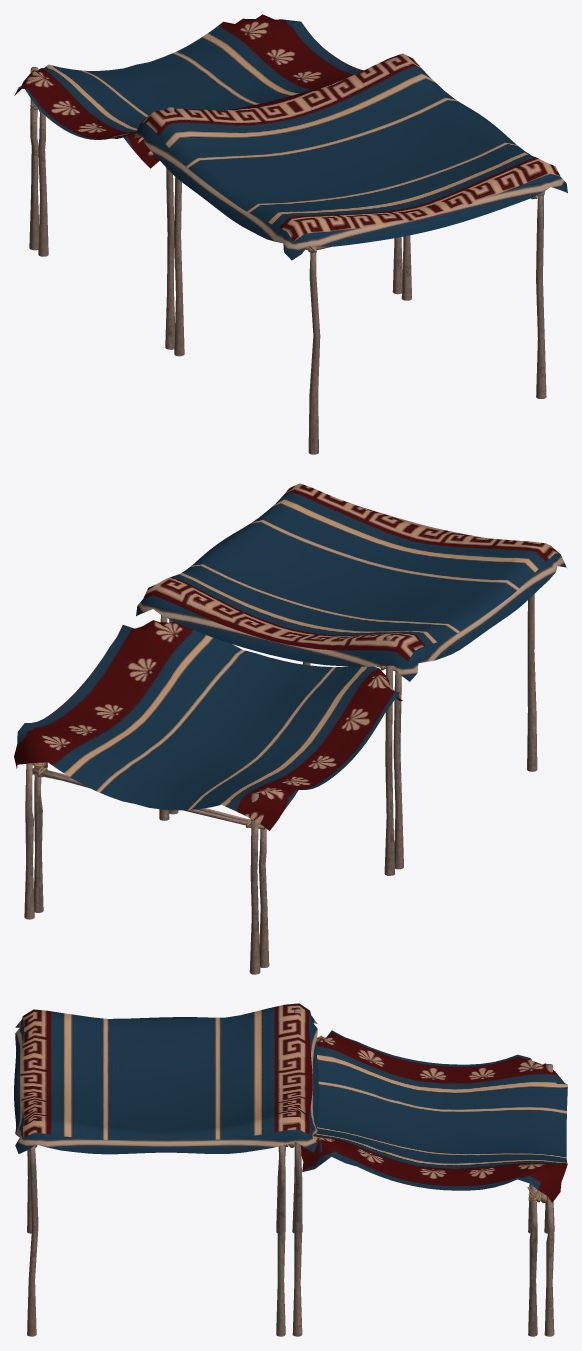
The model's file is SM_market_tent_01.glb.
3 renders of one model, top to bottom at view 1: azimuth 30°, elevation 25°; view 2: azimuth 150°, elevation 25°; view 3: azimuth 270°, elevation 25°, orthographic. The views are drawn at different scales.
Parts seen in each view (by area): view 1: SM_market_tent_01; view 2: SM_market_tent_01; view 3: SM_market_tent_01.
Part boxes in pixels (box(x1,y1,x2,y2)): SM_market_tent_01: box(14, 14, 567, 454); SM_market_tent_01: box(14, 483, 566, 974); SM_market_tent_01: box(14, 1003, 567, 1336).
Size of the model in its own units: 4.85 by 3.89 by 8.81.
2 materials, 2 textured.
